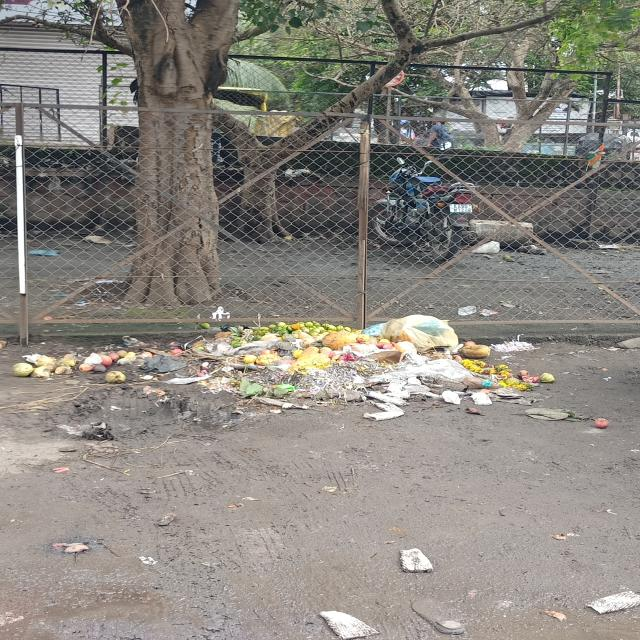garbage: (21, 313, 522, 402)
